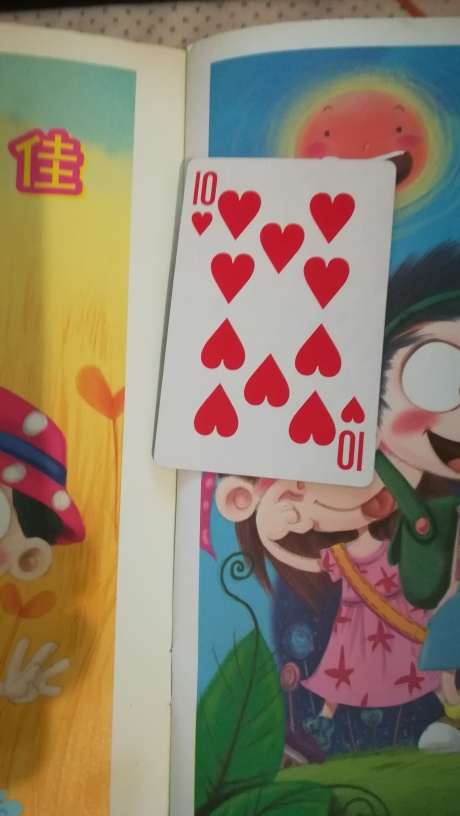hx 10: (153, 155, 398, 485)
